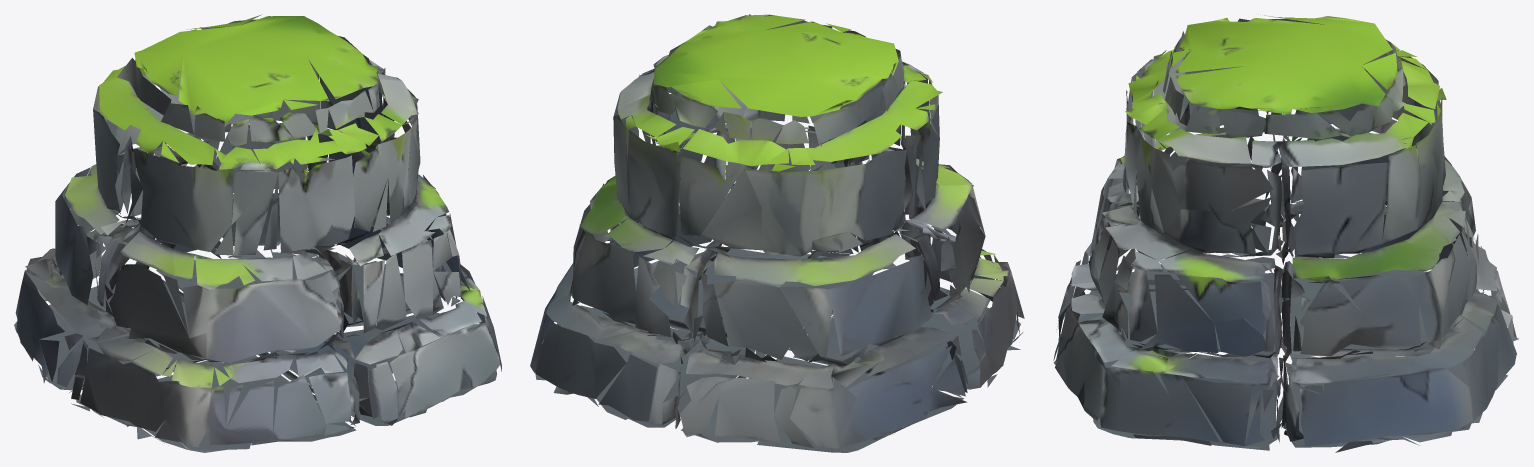
File: Landing_RockOutcrop.glb
The picture shows the model from 3 angles, left to right: view 1: azimuth 30°, elevation 25°; view 2: azimuth 150°, elevation 25°; view 3: azimuth 270°, elevation 25°; orthographic projection. The views are drawn at different scales.
Visible parts, largest first — view 1: Landing_RockOutcrop; view 2: Landing_RockOutcrop; view 3: Landing_RockOutcrop.
Part boxes in pixels (x1,y1,x2,y2): Landing_RockOutcrop: [14, 14, 501, 452]; Landing_RockOutcrop: [530, 14, 1024, 452]; Landing_RockOutcrop: [1053, 14, 1518, 452].
Size of the model in its own units: 2.33 by 1.69 by 2.3.
Materials: 1 (1 with a texture image).
